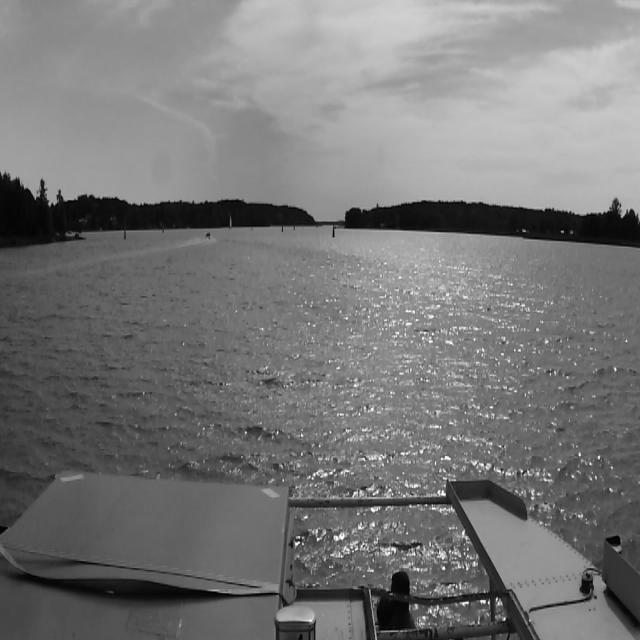buoy: (330, 219, 334, 238), (292, 218, 296, 230), (280, 218, 284, 230)
ship: (201, 225, 213, 243)
